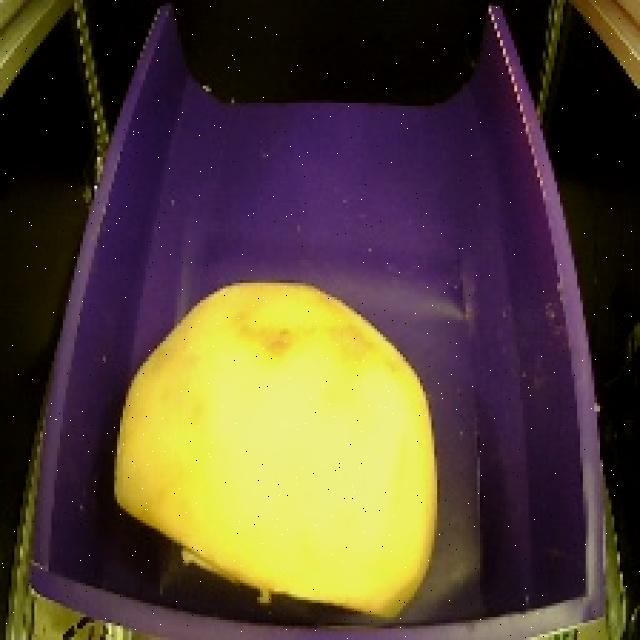full_potato: (87, 259, 445, 626)
